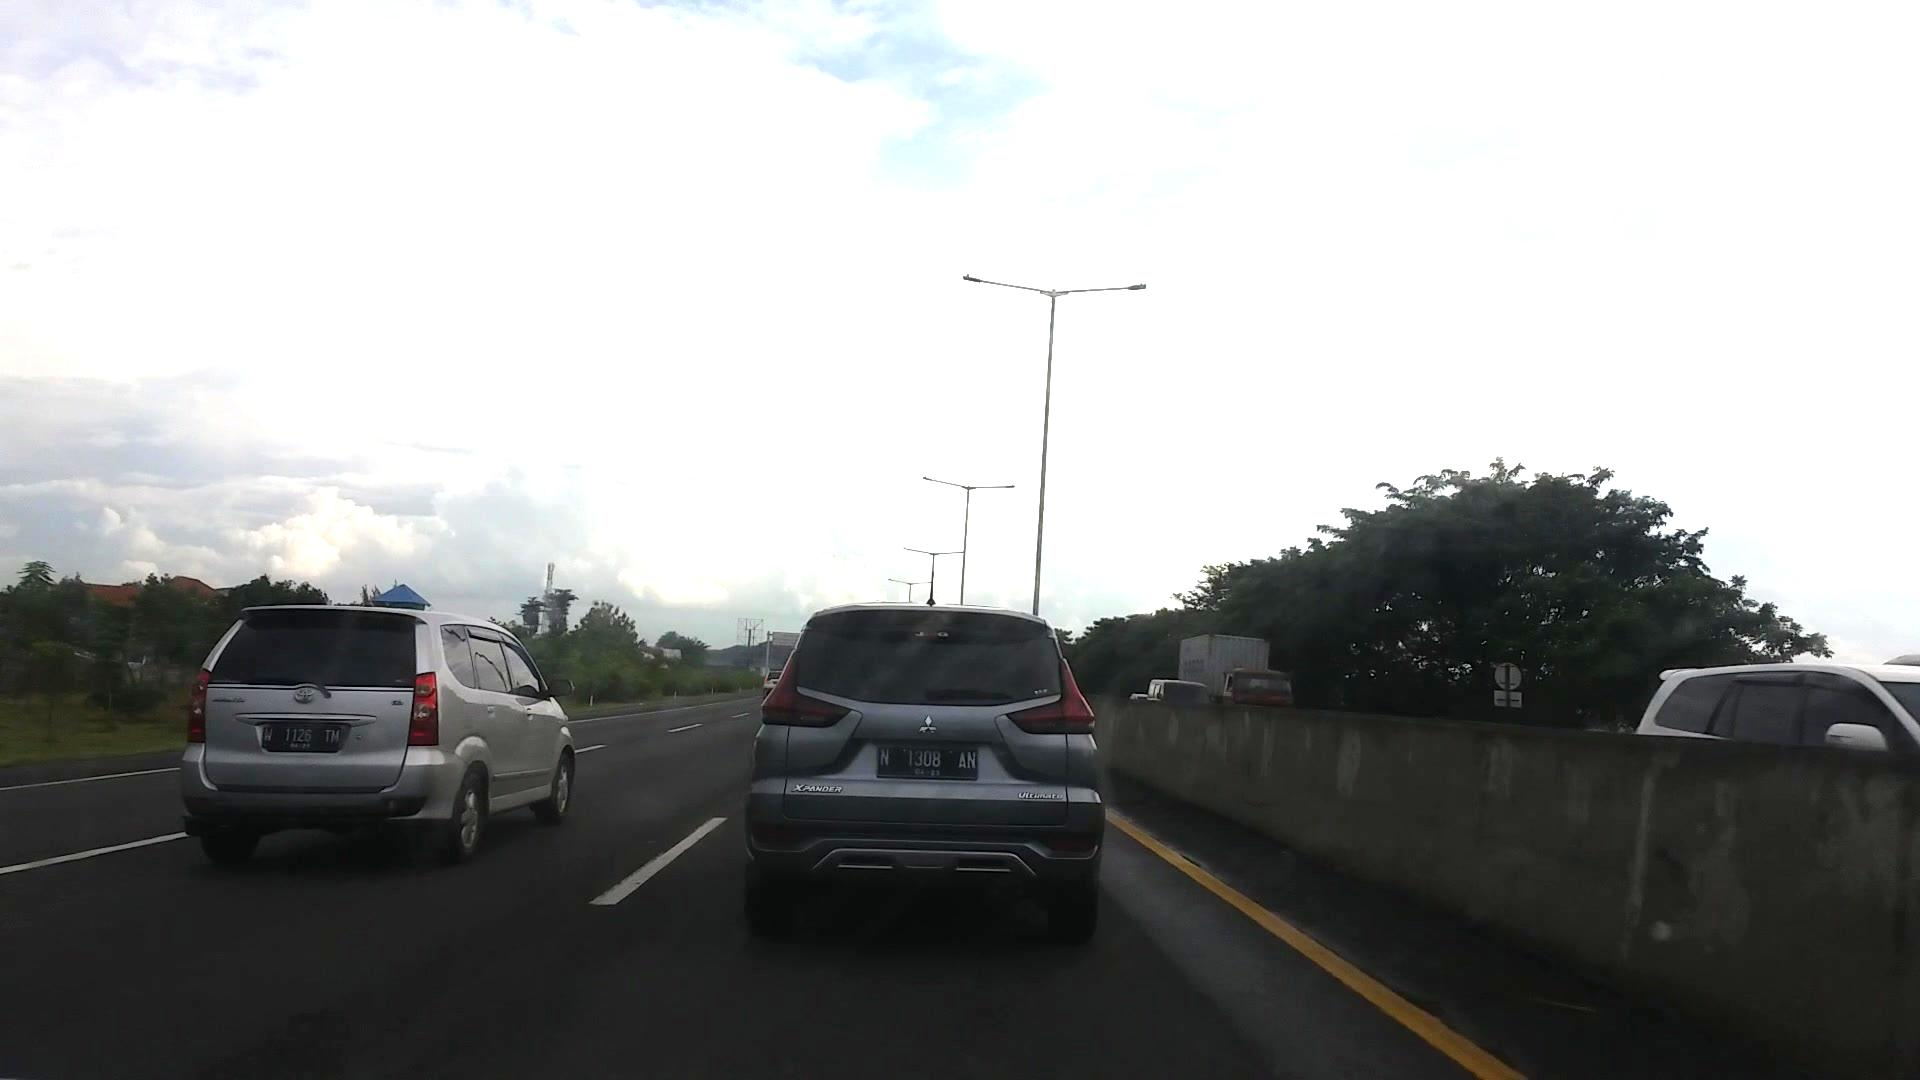plate_positive: (877, 745, 977, 781), (261, 724, 340, 753)
